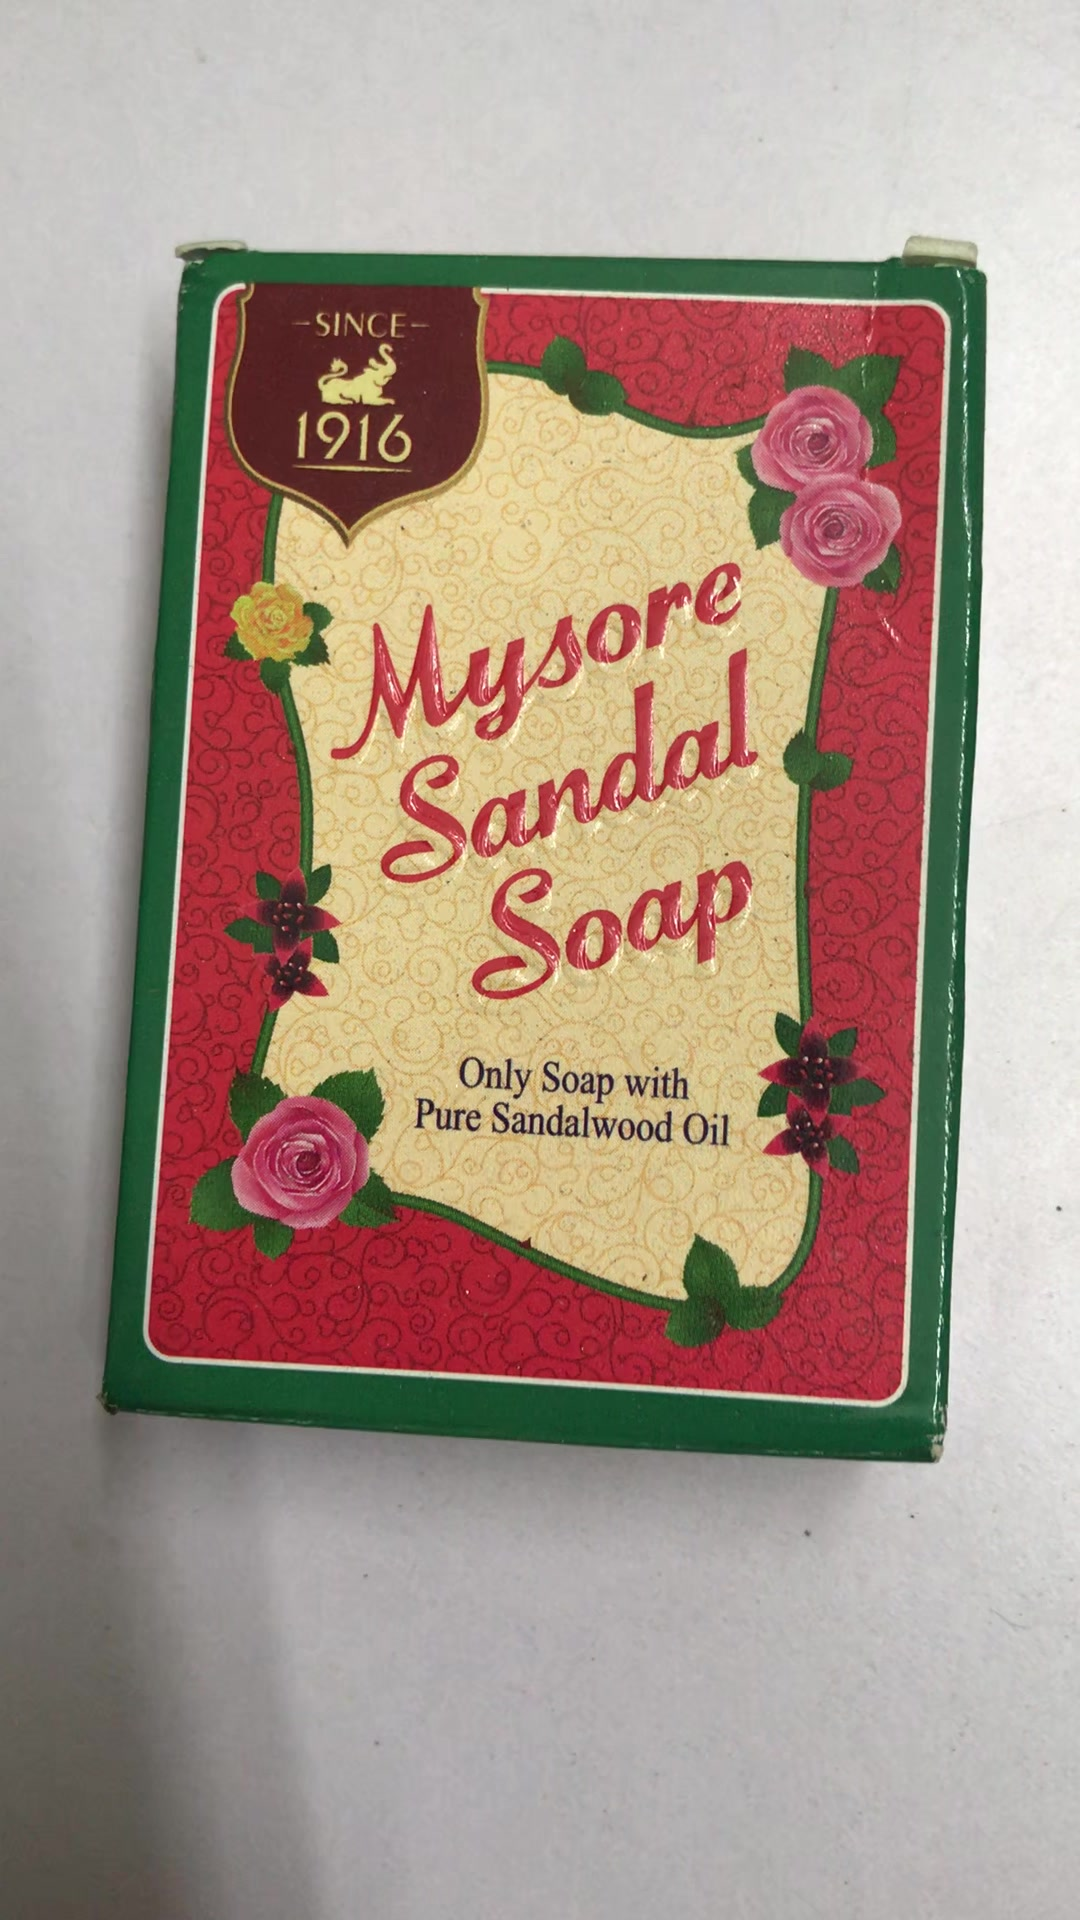mysore sandal soap: (102, 243, 984, 1466)
